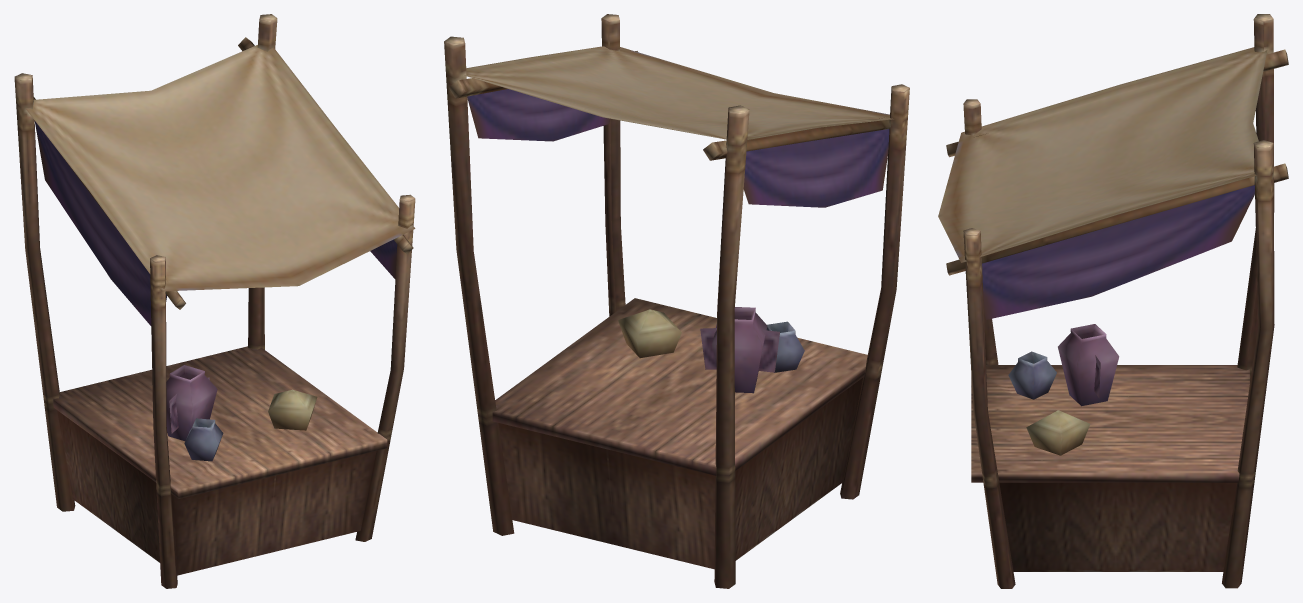
File: zhucheng_tan02.FBX
3 views of the same model, side by side, from view 1: azimuth 30°, elevation 25°; view 2: azimuth 150°, elevation 25°; view 3: azimuth 270°, elevation 25° (orthographic). The views are drawn at different scales.
Visible parts, largest first — view 1: zhucheng_tan02; view 2: zhucheng_tan02; view 3: zhucheng_tan02.
Part boxes in pixels (x1,y1,x2,y2): zhucheng_tan02: (14,14,415,588); zhucheng_tan02: (444,14,909,588); zhucheng_tan02: (938,14,1288,588).
Bounding box in the file's own units: 112 × 123 × 176.
